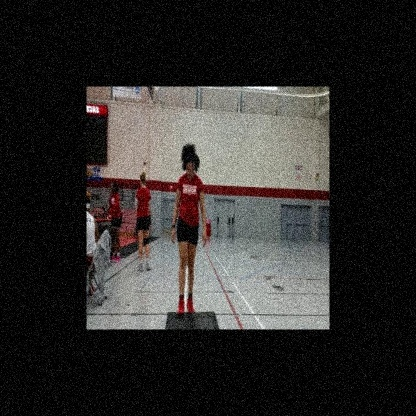lateral_flexion_right: (172, 142, 208, 319)
stance_width_narrow: (171, 171, 208, 319)
